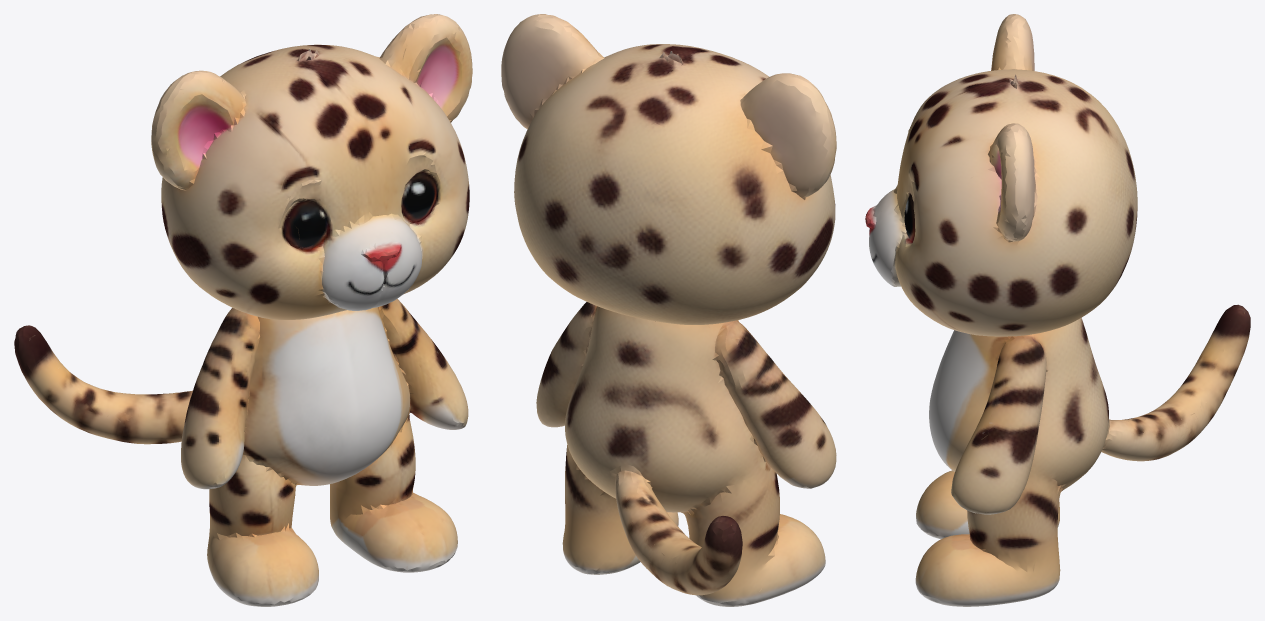
Rendered from barsik_quality.glb.
3 renders of one model, left to right at view 1: azimuth 30°, elevation 25°; view 2: azimuth 150°, elevation 25°; view 3: azimuth 270°, elevation 25°, orthographic. The views are drawn at different scales.
Parts seen in each view (by area): view 1: Barsik_Hyper3D; view 2: Barsik_Hyper3D; view 3: Barsik_Hyper3D.
Boxes of the visible parts, x1,y1,x2,y2 form: Barsik_Hyper3D: (14, 14, 472, 606); Barsik_Hyper3D: (501, 14, 836, 606); Barsik_Hyper3D: (865, 14, 1250, 606).
Size of the model in its own units: 1.32 by 1.9 by 1.35.
Materials: 1 (1 with a texture image).
